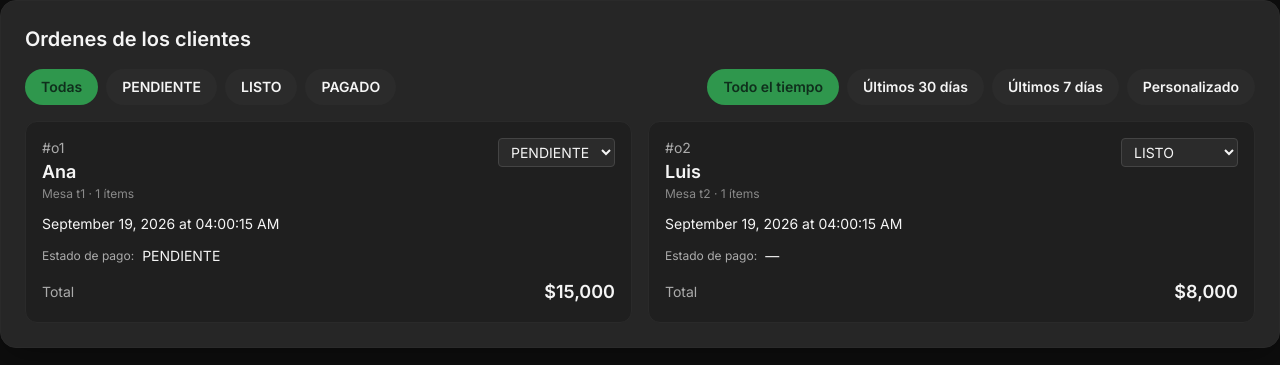
RecentOrders (dashboard) › lista órdenes y filtra por estado
The width and height of the screenshot is (1280, 365).
Check: the heading "Ana" is shown, box [42,161,76,182]
Check: the heading "Luis" is shown, box [665,161,701,182]
Click the button "LISTO": (261, 87) [225,69,298,105]
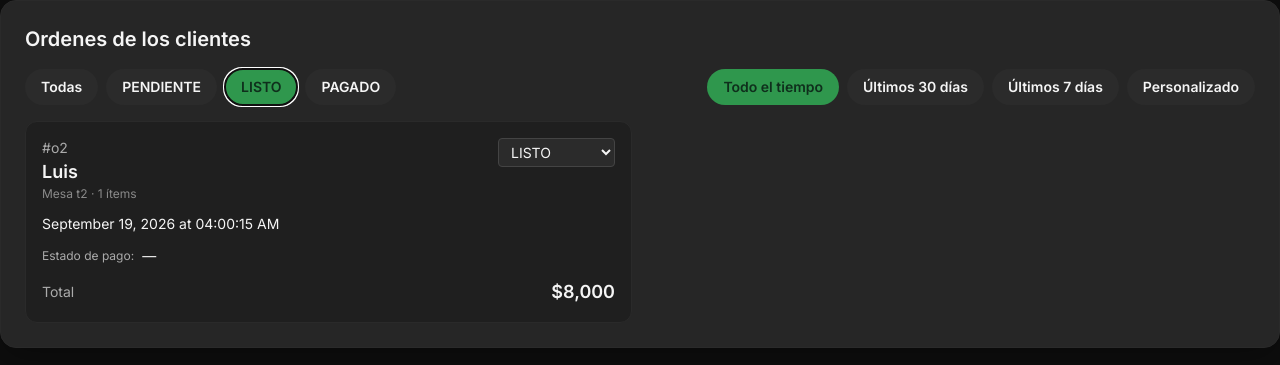
Check: the heading "Luis" is shown, box [42,161,78,182]
Check: the heading "Ana" is gone
